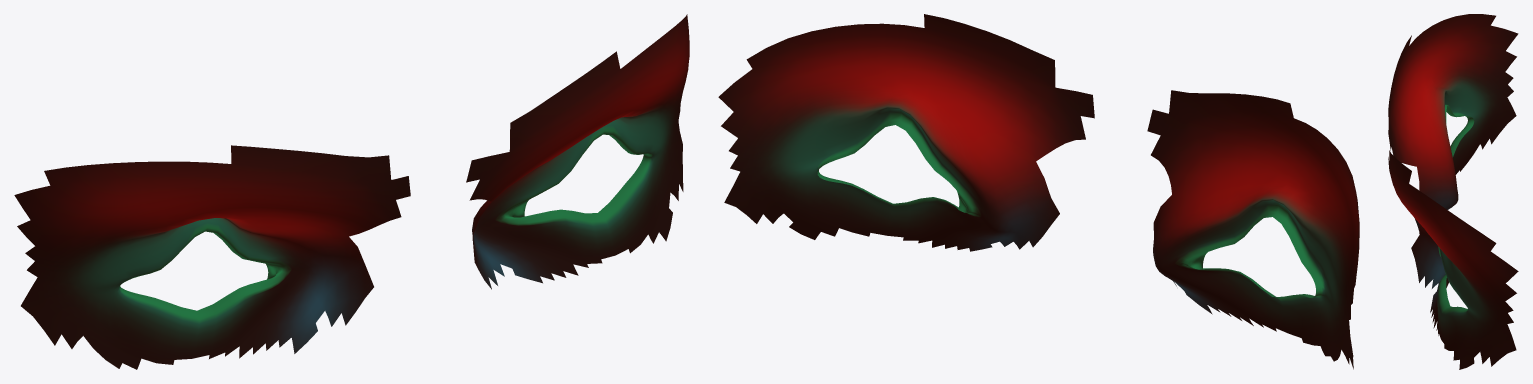
File: yeux03.dae
3 views of the same model, side by side, from view 1: azimuth 30°, elevation 25°; view 2: azimuth 150°, elevation 25°; view 3: azimuth 270°, elevation 25° (orthographic). The views are drawn at different scales.
Parts seen in each view (by area): view 1: Object001; view 2: Object001; view 3: Object001.
Part boxes in pixels (x1,y1,x2,y2): Object001: (14,14,689,369); Object001: (718,14,1359,369); Object001: (1388,14,1518,369).
Size of the model in its own units: 11.8 by 2.73 by 3.93.
